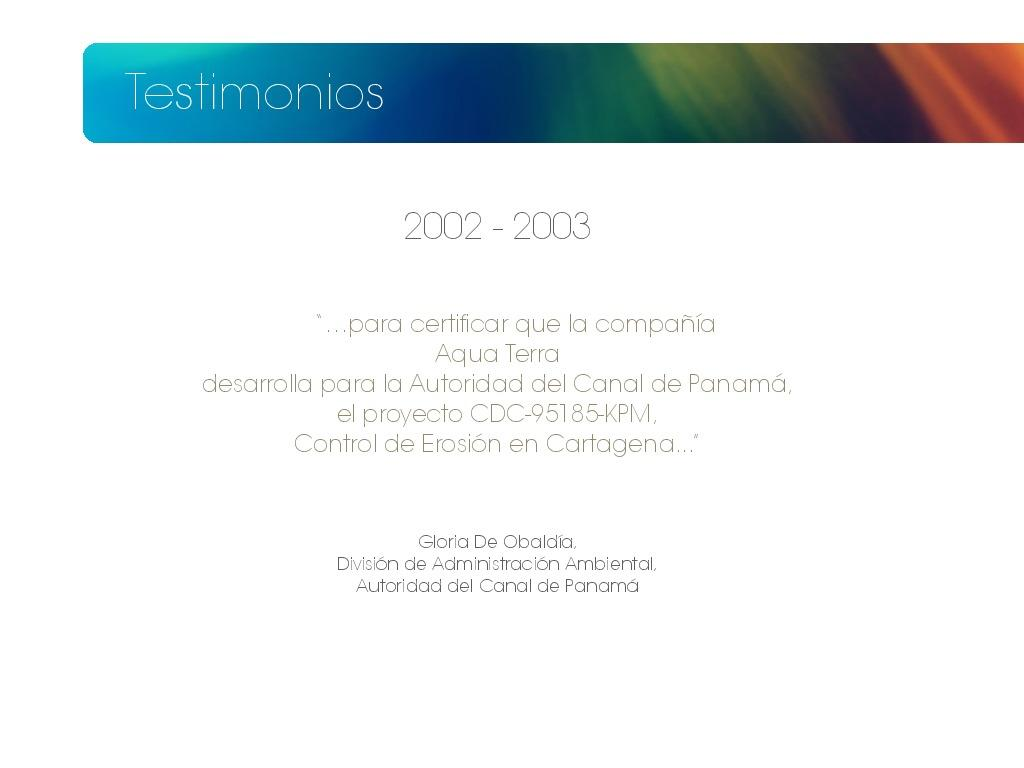paragraph: (173, 158, 929, 678)
title: (123, 47, 406, 130)
